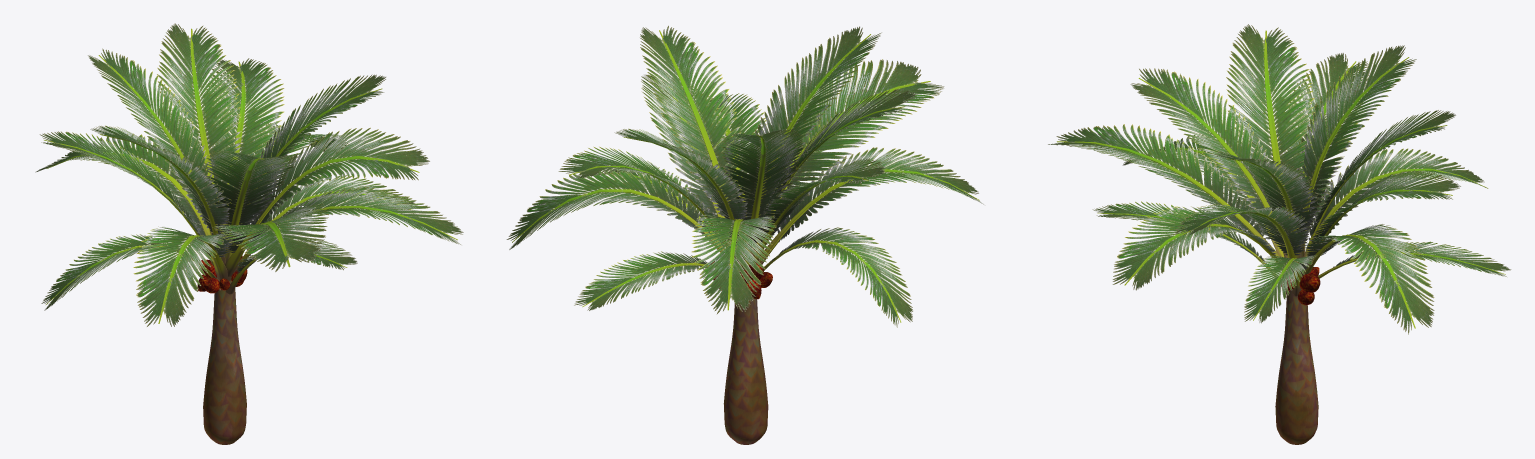
Rendered from kelapa_sawit.obj.
The picture shows the model from 3 angles, left to right: view 1: azimuth 30°, elevation 25°; view 2: azimuth 150°, elevation 25°; view 3: azimuth 270°, elevation 25°; orthographic projection. The views are drawn at different scales.
Parts seen in each view (by area): view 1: Cylinder.020; view 2: Cylinder.020; view 3: Cylinder.020.
Boxes of the visible parts, <box> form: Cylinder.020: <box>35,23,463,444</box>; Cylinder.020: <box>506,25,983,444</box>; Cylinder.020: <box>1048,24,1511,444</box>.
Size of the model in its own units: 478 by 451 by 551.
Materials: 3 (3 with a texture image).
